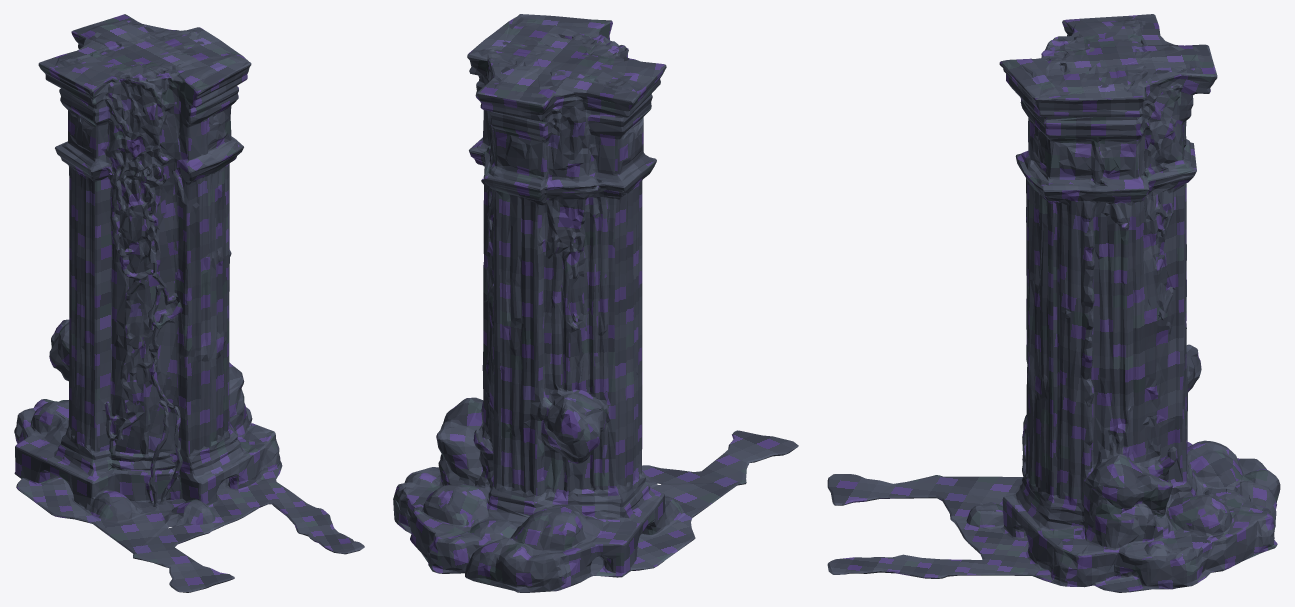
File: solitude-pillar-10.collider.glb
The picture shows the model from 3 angles, left to right: view 1: azimuth 30°, elevation 25°; view 2: azimuth 150°, elevation 25°; view 3: azimuth 270°, elevation 25°; orthographic projection. The views are drawn at different scales.
Parts seen in each view (by area): view 1: temp_mesh.ply; view 2: temp_mesh.ply; view 3: temp_mesh.ply.
Boxes of the visible parts, bbox=[...] form: temp_mesh.ply: bbox=[14, 14, 364, 592]; temp_mesh.ply: bbox=[393, 14, 798, 592]; temp_mesh.ply: bbox=[827, 14, 1280, 592].
Size of the model in its own units: 1.14 by 1.97 by 1.73.
1 material, 1 textured.
